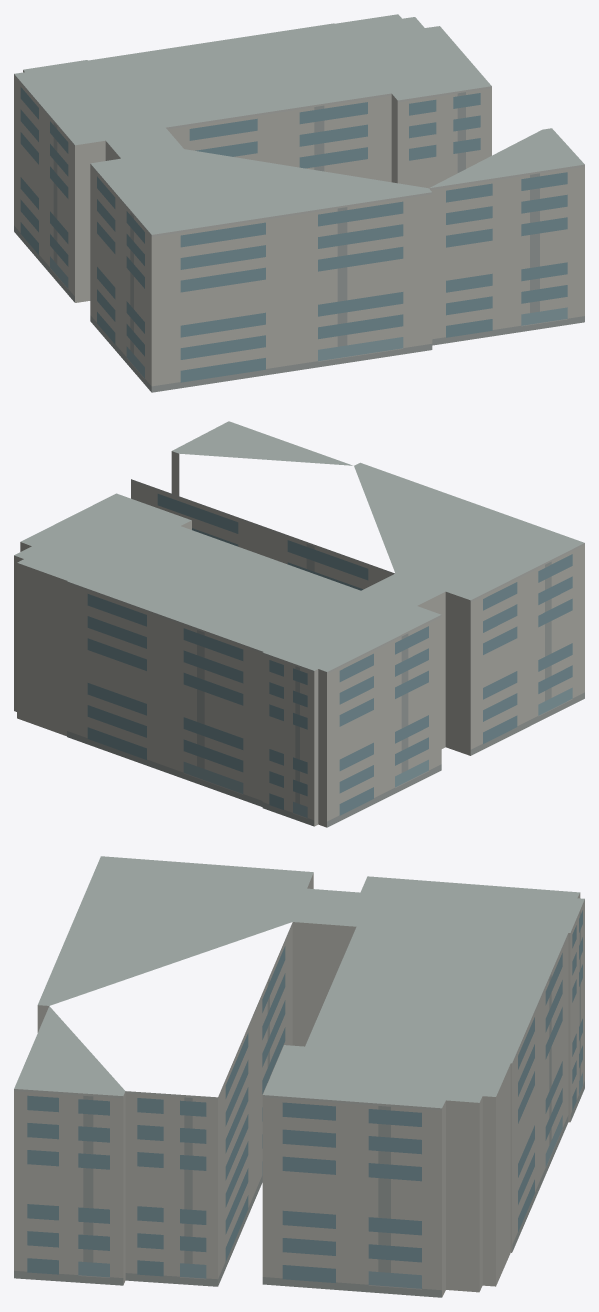
File: survey-upis-32635514.glb
3 renders of one model, top to bottom at view 1: azimuth 30°, elevation 25°; view 2: azimuth 150°, elevation 25°; view 3: azimuth 270°, elevation 25°, orthographic. The views are drawn at different scales.
Visible parts, largest first — view 1: survey-upis-32635514.tmp; view 2: survey-upis-32635514.tmp; view 3: survey-upis-32635514.tmp.
Part boxes in pixels (x1,y1,x2,y2): survey-upis-32635514.tmp: (14, 14, 584, 392); survey-upis-32635514.tmp: (14, 421, 584, 827); survey-upis-32635514.tmp: (14, 856, 584, 1297).
Bounding box in the file's own units: 56.94 × 19.95 × 54.49.
